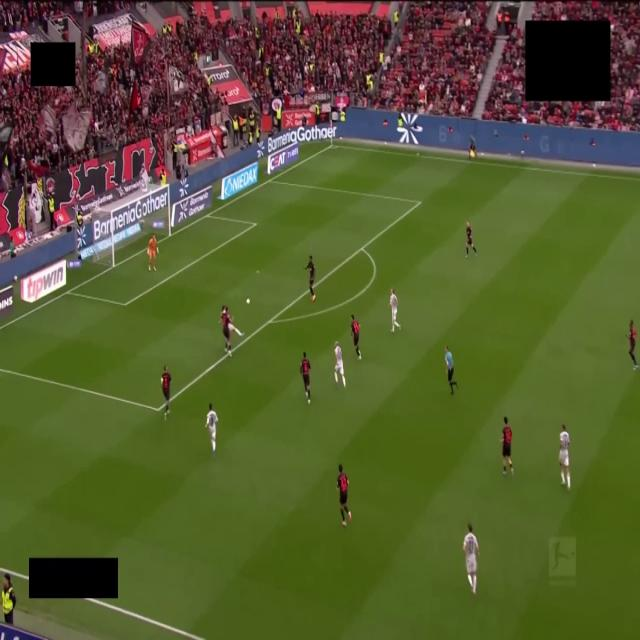ball: (246, 298, 249, 304)
player: (463, 524, 478, 594), (337, 464, 351, 527), (559, 424, 570, 489), (501, 416, 513, 475), (206, 403, 218, 454), (220, 306, 231, 356), (225, 307, 243, 337), (627, 320, 638, 369), (161, 366, 171, 419), (300, 352, 310, 403), (389, 288, 400, 332), (351, 315, 362, 359), (305, 256, 315, 302), (335, 342, 345, 386), (148, 235, 158, 271), (466, 222, 476, 257)
referee: (445, 346, 457, 394)
